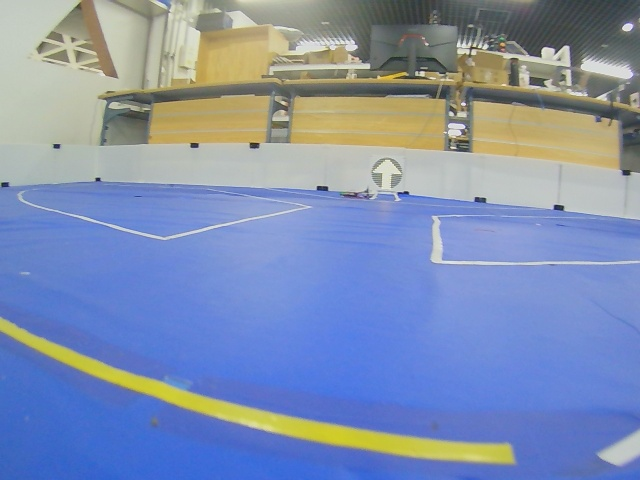straight_yellow: (369, 155, 404, 190)
